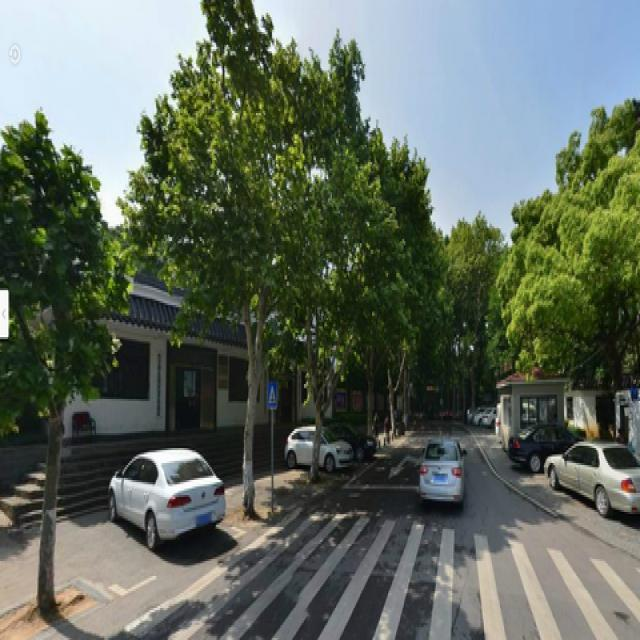meta: (145, 19, 335, 499)
